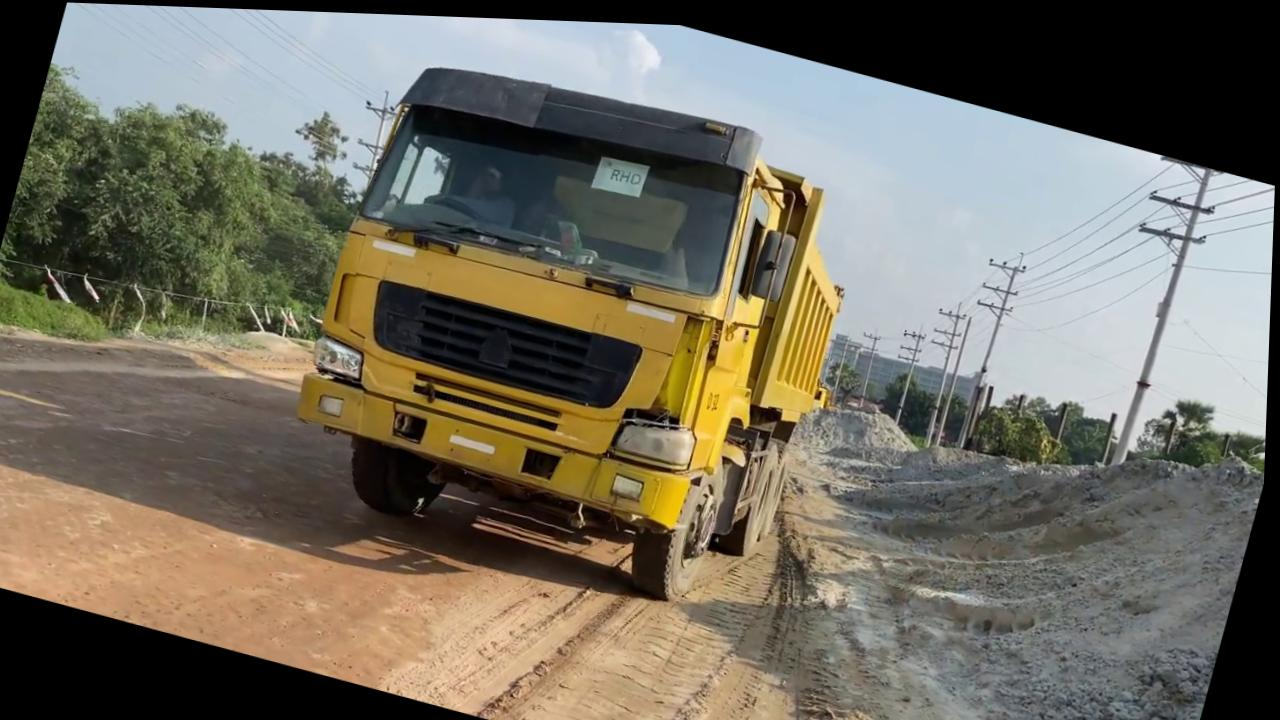Garbage: (781, 389, 1262, 720)
Pole: (1078, 142, 1226, 466)
Tree: (269, 24, 898, 626)
